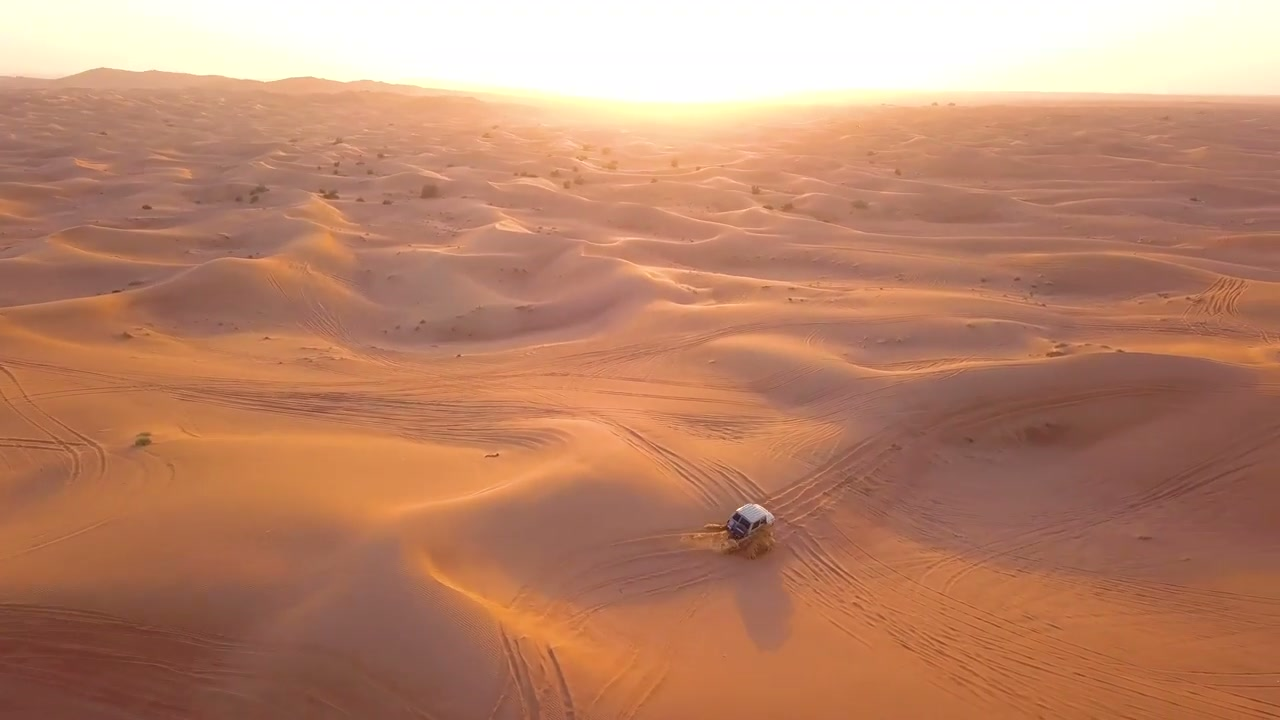vehicle_track: (789, 524, 1279, 719), (942, 418, 1279, 591), (0, 603, 437, 719), (163, 383, 561, 447), (1036, 563, 1279, 634), (490, 621, 664, 719), (559, 318, 851, 376), (596, 415, 762, 509), (917, 383, 1182, 438), (267, 272, 405, 369), (0, 363, 108, 484), (1180, 276, 1270, 343), (1183, 276, 1248, 319)
